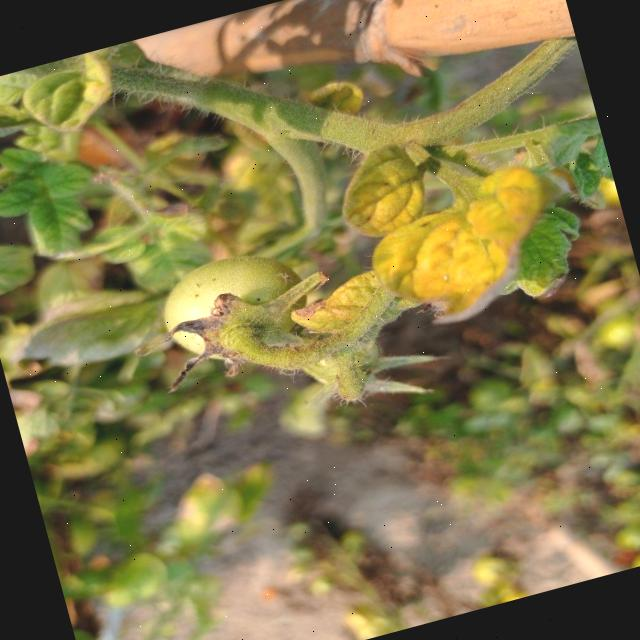Unripe: (147, 234, 321, 380)
